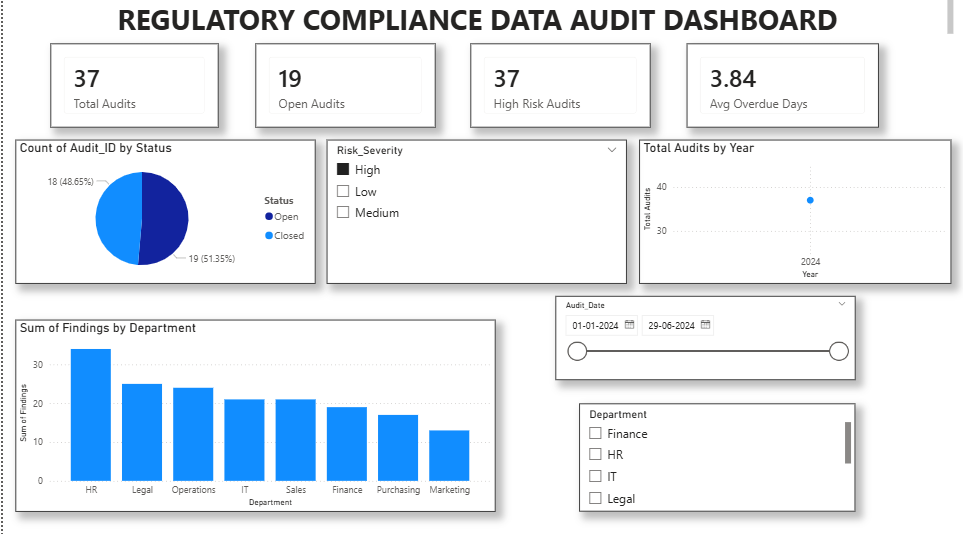

This screenshot's page, from the dashboard's own definition file:
{"tool":"powerbi","page":{"name":"Compliance Overview","canvas":[1280,720],"ordinal":0},"visuals":[{"type":"textbox","box":[0,0,1272,72],"z":0},{"type":"cardVisual","fields":{"Data":["Audit_Records.Total Audits"]},"box":[64,64,224,112],"z":1000},{"type":"cardVisual","fields":{"Data":["Audit_Records.Open Audits"]},"box":[336,64,240,112],"z":2000},{"type":"cardVisual","fields":{"Data":["Audit_Records.High Risk Audits"]},"box":[624,64,240,112],"z":3000},{"type":"cardVisual","fields":{"Data":["Audit_Records.Avg Overdue Days"]},"box":[912,64,256,112],"z":4000},{"type":"pieChart","fields":{"Category":["Audit_Records.Status"],"Y":["CountNonNull(Audit_Records.Audit_ID)"]},"box":[16,192,400,192],"z":5000},{"type":"clusteredColumnChart","fields":{"Category":["Audit_Records.Department"],"Y":["Sum(Audit_Records.Findings)"]},"box":[16,432,640,256],"z":6000},{"type":"lineChart","fields":{"Y":["Audit_Records.Total Audits"],"Category":["Audit_Records.Audit_Date.Variation.Date Hierarchy.Year","Audit_Records.Audit_Date.Variation.Date Hierarchy.Quarter","Audit_Records.Audit_Date.Variation.Date Hierarchy.Month","Audit_Records.Audit_Date.Variation.Date Hierarchy.Day"]},"box":[848,192,416,192],"z":7000},{"type":"slicer","fields":{"Values":["Audit_Records.Department"]},"box":[768,544,368,144],"z":8000},{"type":"slicer","fields":{"Values":["Audit_Records.Risk_Severity"]},"box":[432,192,400,192],"z":9000},{"type":"slicer","fields":{"Values":["Audit_Records.Audit_Date"]},"box":[736,400,400,112],"z":10000}]}

Visuals, with their boxes in screenshot pixels (x1, y1, x2, y2), scaled from the page's 1280x720 canvas onto the 963x534 screenshot:
textbox: [0,0,957,53]
cardVisual - Audit_Records.Total Audits: [48,47,217,131]
cardVisual - Audit_Records.Open Audits: [253,47,433,131]
cardVisual - Audit_Records.High Risk Audits: [469,47,650,131]
cardVisual - Audit_Records.Avg Overdue Days: [686,47,879,131]
pieChart - Audit_Records.Status x CountNonNull(Audit_Records.Audit_ID): [12,142,313,285]
clusteredColumnChart - Audit_Records.Department x Sum(Audit_Records.Findings): [12,320,494,510]
lineChart - Audit_Records.Total Audits x Audit_Records.Audit_Date.Variation.Date Hierarchy.Year: [638,142,951,285]
slicer - Audit_Records.Department: [578,403,855,510]
slicer - Audit_Records.Risk_Severity: [325,142,626,285]
slicer - Audit_Records.Audit_Date: [554,297,855,380]
